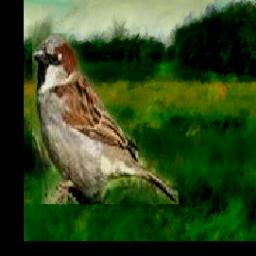Sparrow: (33, 34, 179, 205)
